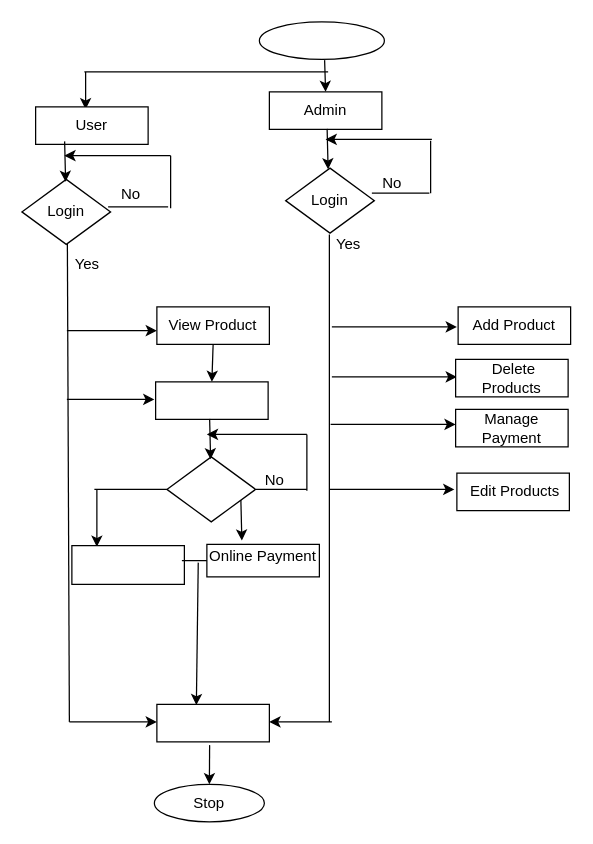
The diagram is 593 pixels wide and 844 high, and some of its shapes have lost their labels. The shapes that lost their labels are listed below. From the top down, each one's centre as x and y in pixels, then its label:
the point at 321,40: Start
the point at 211,400: Add to Cart
the point at 211,489: Payment
the point at 127,564: Cash on delivery
the point at 212,722: Logout
